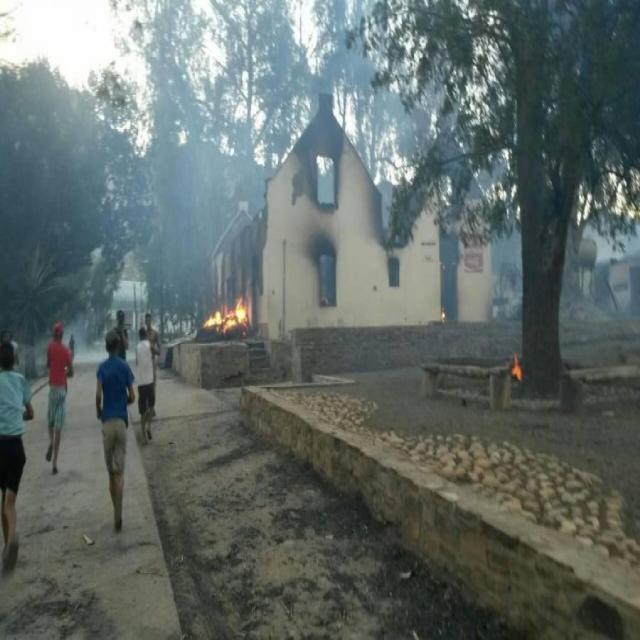Fire: (202, 294, 252, 334), (512, 354, 522, 382), (441, 306, 446, 324)
Smoke: (158, 116, 232, 296), (318, 170, 335, 204)
